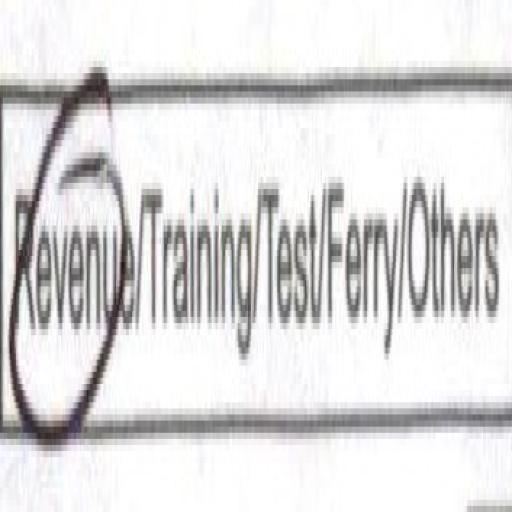check: (4, 0, 134, 512)
